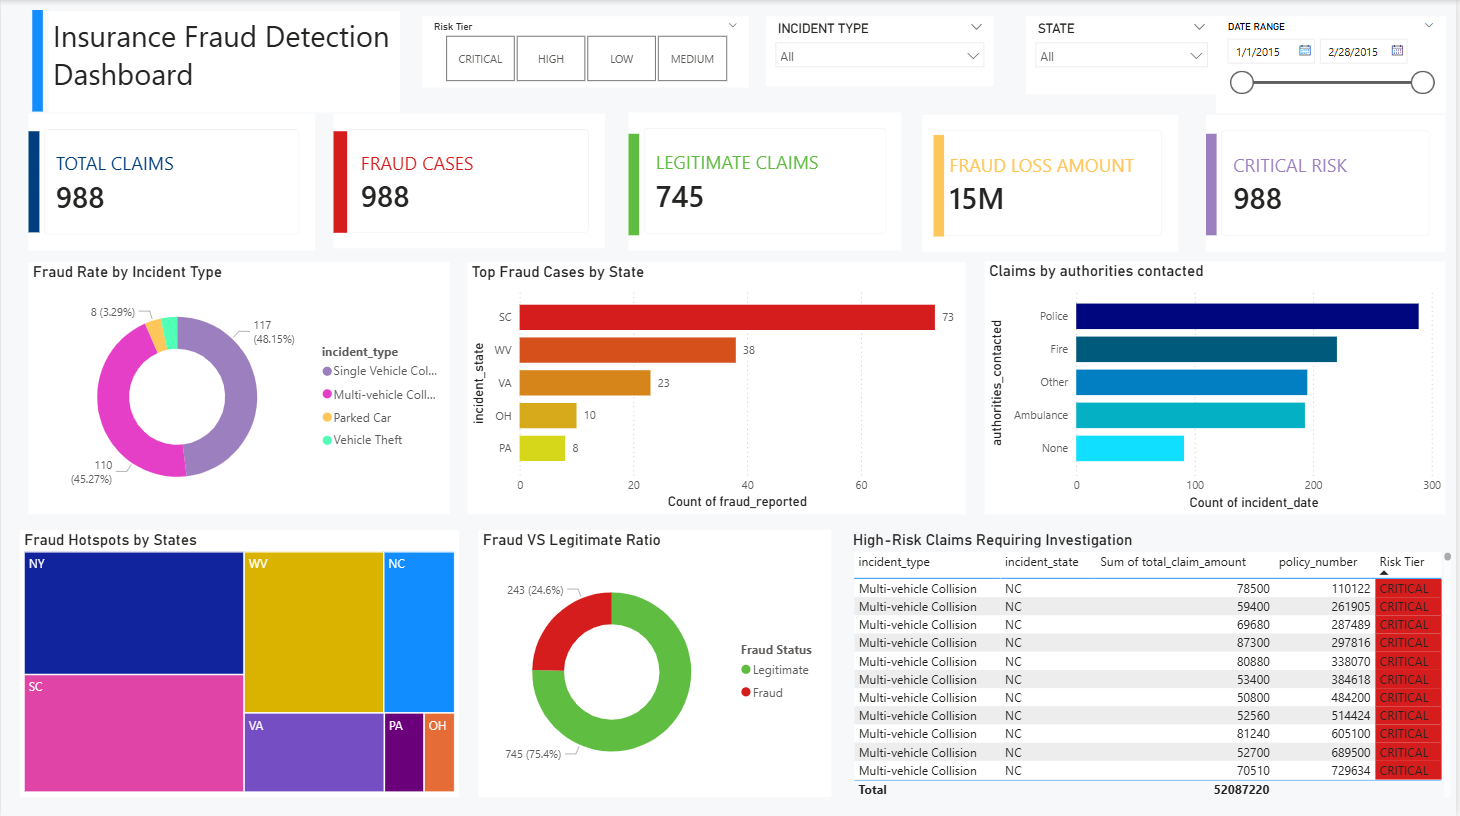

What the dashboard file says about the page in this screenshot:
{"tool":"powerbi","page":{"name":"Page 1","canvas":[1600,900],"ordinal":0},"visuals":[{"type":"cardVisual","fields":{"Data":["CountNonNull(Fraud_Detection_decsion tree.fraud_reported)"]},"box":[365,125,298.3,148.3],"z":0},{"type":"cardVisual","fields":{"Data":["CountNonNull(Fraud_Detection_decsion tree.fraud_reported)"]},"box":[690,123.3,300,151.7],"z":1000},{"type":"cardVisual","fields":{"Data":["CountNonNull(Fraud_Detection_decsion tree.incident_date)"]},"box":[30,125,315,150],"z":2000},{"type":"cardVisual","fields":{"Data":["Sum(Fraud_Detection_decsion tree.total_claim_amount)"]},"box":[1013.3,126.7,281.7,150],"z":3000},{"type":"cardVisual","fields":{"Data":["CountNonNull(Fraud_Detection_decsion tree.Risk Tier)"]},"box":[1325,126.7,263.3,150],"z":4000},{"type":"shape","box":[30.2,144.8,12.1,111.6],"z":5000},{"type":"shape","box":[365,145,15,111.7],"z":6000},{"type":"shape","box":[690,146.7,11.7,111.7],"z":7000},{"type":"shape","box":[1025,148.3,11.7,111.7],"z":8000},{"type":"shape","box":[1325,146.7,11.7,111.7],"z":9000},{"type":"textbox","box":[52.8,12.1,386.1,111.6],"z":10000},{"type":"shape","box":[35,11.7,11.7,111.7],"z":11000},{"type":"slicer","fields":{"Values":["Fraud_Detection_decsion tree.incident_date"]},"box":[1336.1,18.1,251.8,105.6],"z":12000},{"type":"slicer","fields":{"Values":["Fraud_Detection_decsion tree.incident_state"]},"box":[1126.5,18.1,209.6,86],"z":13000},{"type":"slicer","fields":{"Values":["Fraud_Detection_decsion tree.incident_type"]},"box":[841.5,18.1,250.3,76.9],"z":14000},{"type":"slicer","fields":{"Values":["Fraud_Detection_decsion tree.Risk Tier"]},"box":[463,18.1,358.9,78.4],"z":15000},{"type":"donutChart","title":"Fraud Rate by Incident Type","fields":{"Category":["Fraud_Detection_decsion tree.incident_type"],"Y":["CountNonNull(Fraud_Detection_decsion tree.fraud_reported)"]},"box":[30,288.3,463.3,276.7],"z":16000},{"type":"barChart","title":"Top Fraud Cases by State","fields":{"Category":["Fraud_Detection_decsion tree.incident_state"],"Y":["CountNonNull(Fraud_Detection_decsion tree.fraud_reported)"]},"box":[513.3,288.3,548.3,276.7],"z":17000},{"type":"barChart","title":"Claims by authorities contacted","fields":{"Category":["Fraud_Detection_decsion tree.authorities_contacted"],"Y":["CountNonNull(Fraud_Detection_decsion tree.incident_date)"]},"box":[1081.7,286.7,506.7,278.3],"z":18000},{"type":"donutChart","title":"Fraud VS Legitimate Ratio","fields":{"Category":["Fraud_Detection_decsion tree.Fraud Status"],"Y":["CountNonNull(Fraud_Detection_decsion tree.incident_date)"]},"box":[525,583.3,388.3,293.3],"z":19000},{"type":"tableEx","title":"High-Risk Claims Requiring Investigation","fields":{"Values":["Fraud_Detection_decsion tree.incident_type","Fraud_Detection_decsion tree.incident_state","Sum(Fraud_Detection_decsion tree.total_claim_amount)","Fraud_Detection_decsion tree.policy_number","Fraud_Detection_decsion tree.Risk Tier"]},"box":[931.7,583.3,668.3,300],"z":20000},{"type":"treemap","title":"Fraud Hotspots by States","fields":{"Group":["Fraud_Detection_decsion tree.incident_state"],"Values":["CountNonNull(Fraud_Detection_decsion tree.fraud_reported)"]},"box":[20,583.3,483.3,293.3],"z":21000}]}

Visuals, with their boxes in screenshot pixels (x1, y1, x2, y2), scaled from the page's 1600x900 canvas onto the 1460x816 screenshot:
cardVisual - CountNonNull(Fraud_Detection_decsion tree.fraud_reported): pyautogui.locateOnScreen(333, 113, 605, 248)
cardVisual - CountNonNull(Fraud_Detection_decsion tree.fraud_reported): pyautogui.locateOnScreen(630, 112, 903, 249)
cardVisual - CountNonNull(Fraud_Detection_decsion tree.incident_date): pyautogui.locateOnScreen(27, 113, 315, 249)
cardVisual - Sum(Fraud_Detection_decsion tree.total_claim_amount): pyautogui.locateOnScreen(925, 115, 1182, 251)
cardVisual - CountNonNull(Fraud_Detection_decsion tree.Risk Tier): pyautogui.locateOnScreen(1209, 115, 1449, 251)
shape: pyautogui.locateOnScreen(28, 131, 39, 232)
shape: pyautogui.locateOnScreen(333, 131, 347, 233)
shape: pyautogui.locateOnScreen(630, 133, 640, 234)
shape: pyautogui.locateOnScreen(935, 134, 946, 236)
shape: pyautogui.locateOnScreen(1209, 133, 1220, 234)
textbox: pyautogui.locateOnScreen(48, 11, 400, 112)
shape: pyautogui.locateOnScreen(32, 11, 43, 112)
slicer - Fraud_Detection_decsion tree.incident_date: pyautogui.locateOnScreen(1219, 16, 1449, 112)
slicer - Fraud_Detection_decsion tree.incident_state: pyautogui.locateOnScreen(1028, 16, 1219, 94)
slicer - Fraud_Detection_decsion tree.incident_type: pyautogui.locateOnScreen(768, 16, 996, 86)
slicer - Fraud_Detection_decsion tree.Risk Tier: pyautogui.locateOnScreen(422, 16, 750, 87)
"Fraud Rate by Incident Type" donutChart: pyautogui.locateOnScreen(27, 261, 450, 512)
"Top Fraud Cases by State" barChart: pyautogui.locateOnScreen(468, 261, 969, 512)
"Claims by authorities contacted" barChart: pyautogui.locateOnScreen(987, 260, 1449, 512)
"Fraud VS Legitimate Ratio" donutChart: pyautogui.locateOnScreen(479, 529, 833, 795)
"High-Risk Claims Requiring Investigation" tableEx: pyautogui.locateOnScreen(850, 529, 1459, 801)
"Fraud Hotspots by States" treemap: pyautogui.locateOnScreen(18, 529, 459, 795)
